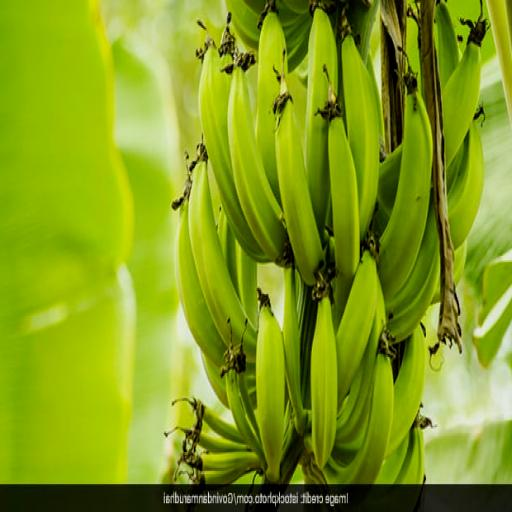banana-unripe: (159, 0, 498, 483)
